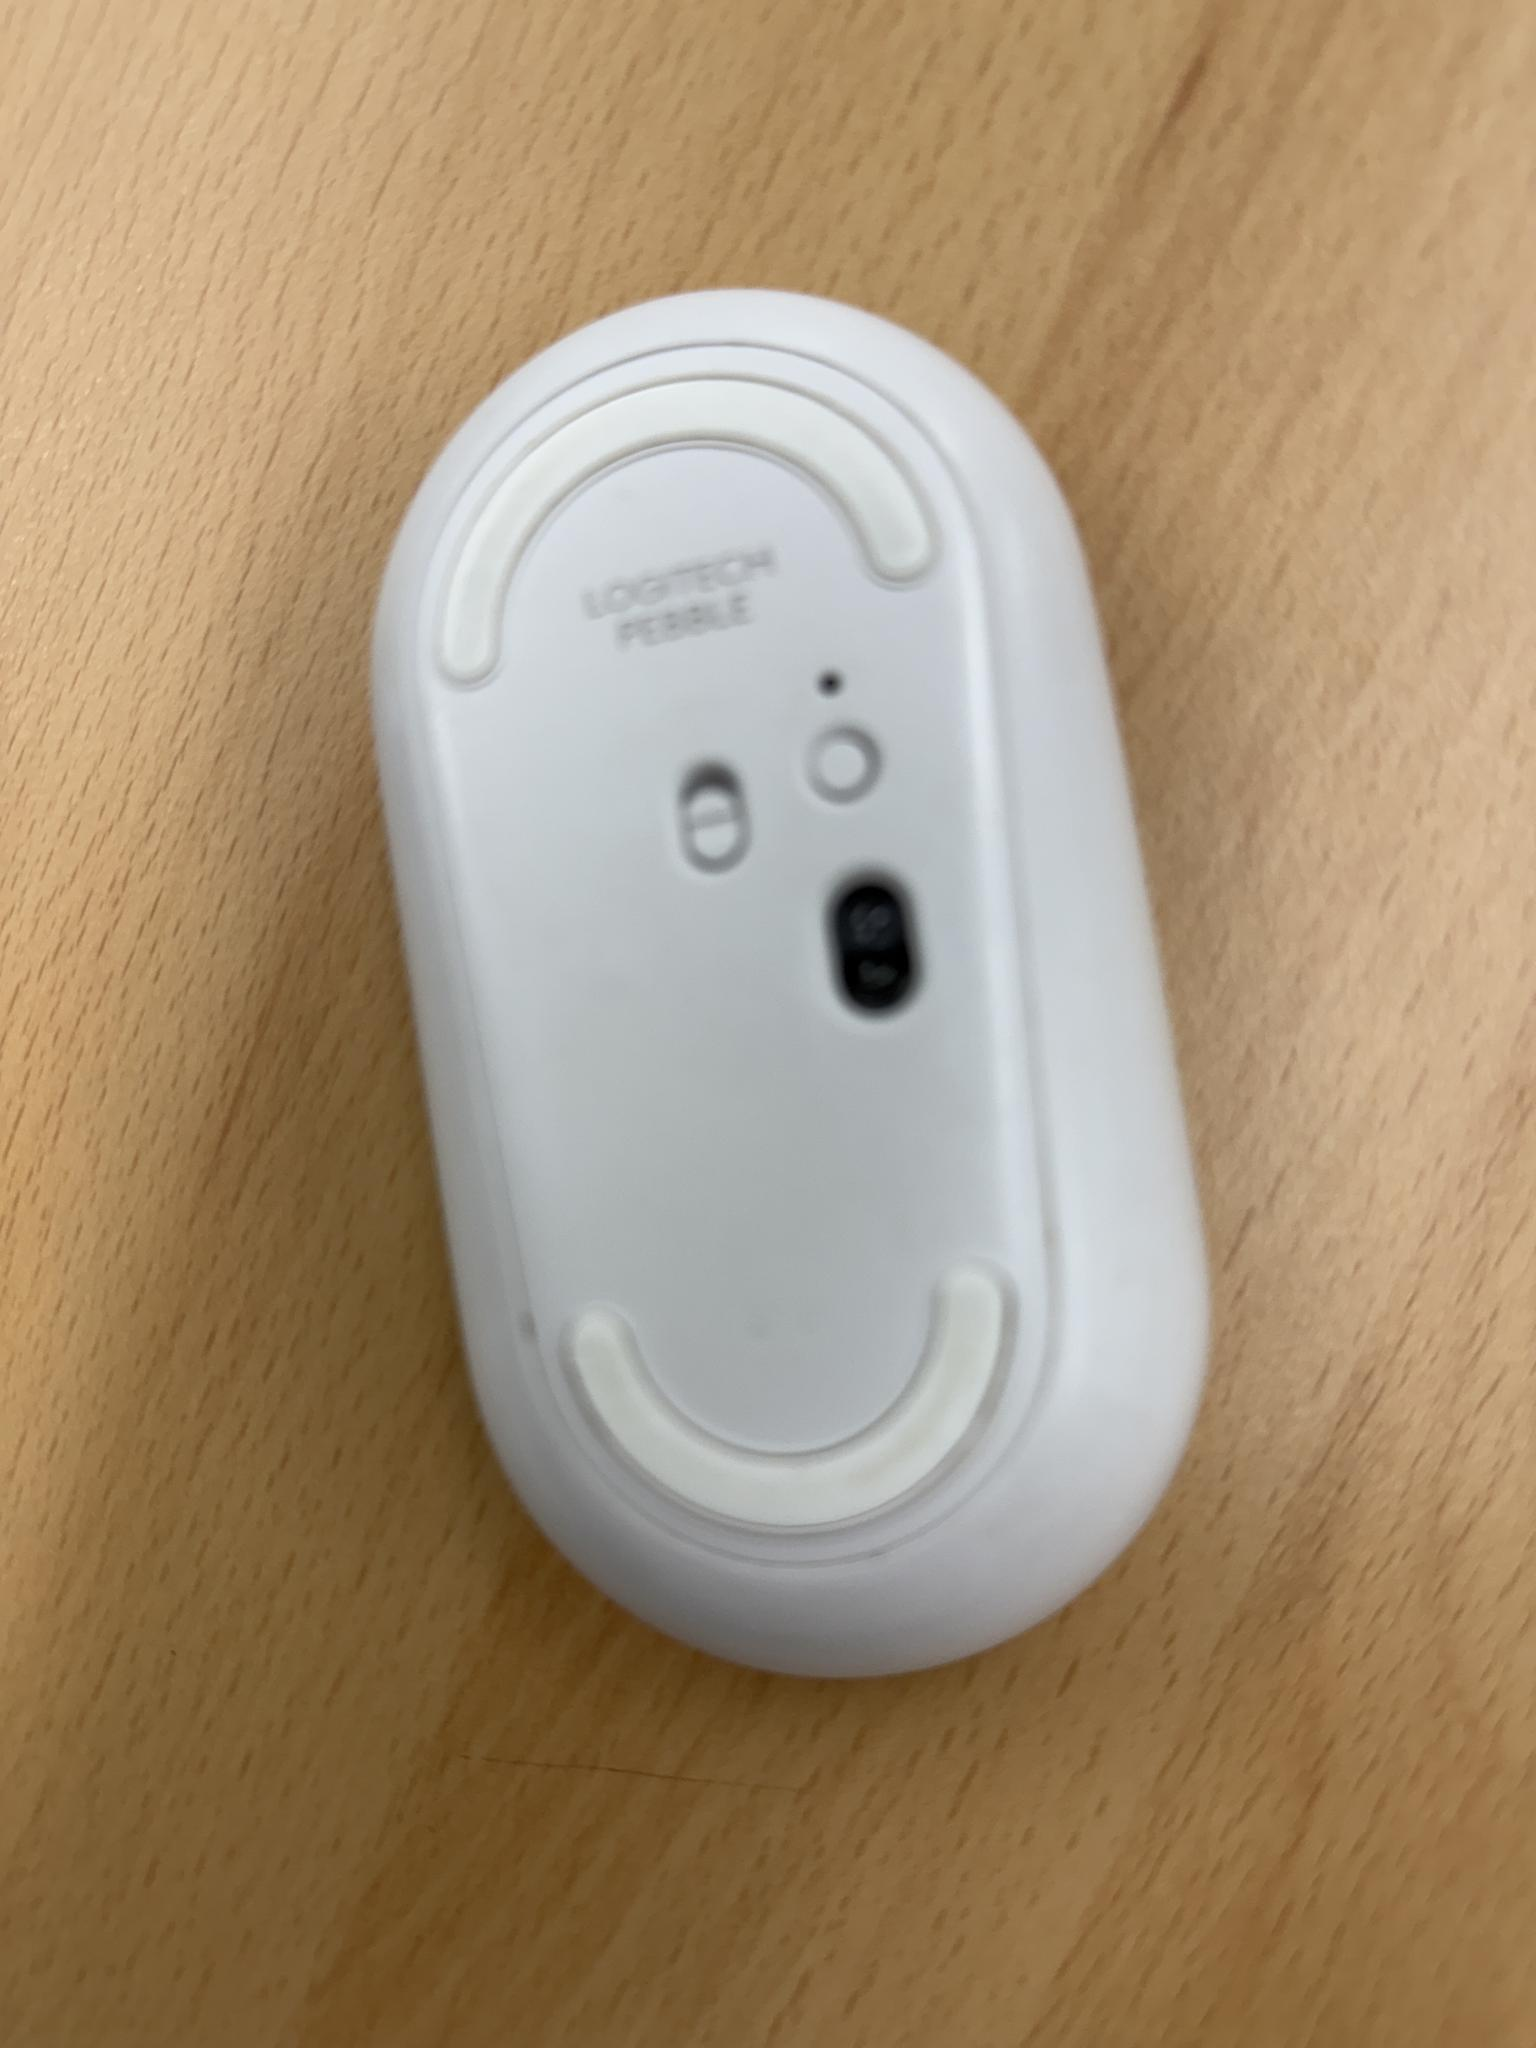back: (355, 274, 1217, 1693)
